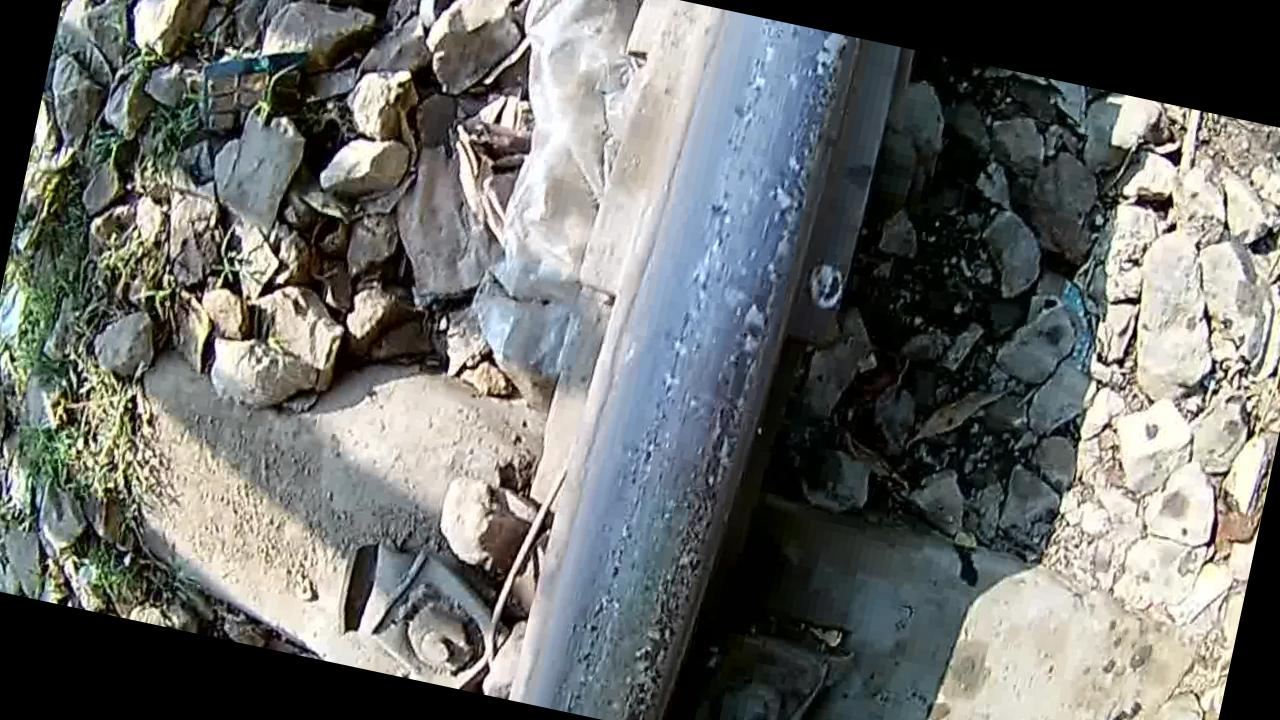clip_missing: (535, 5, 858, 720)
